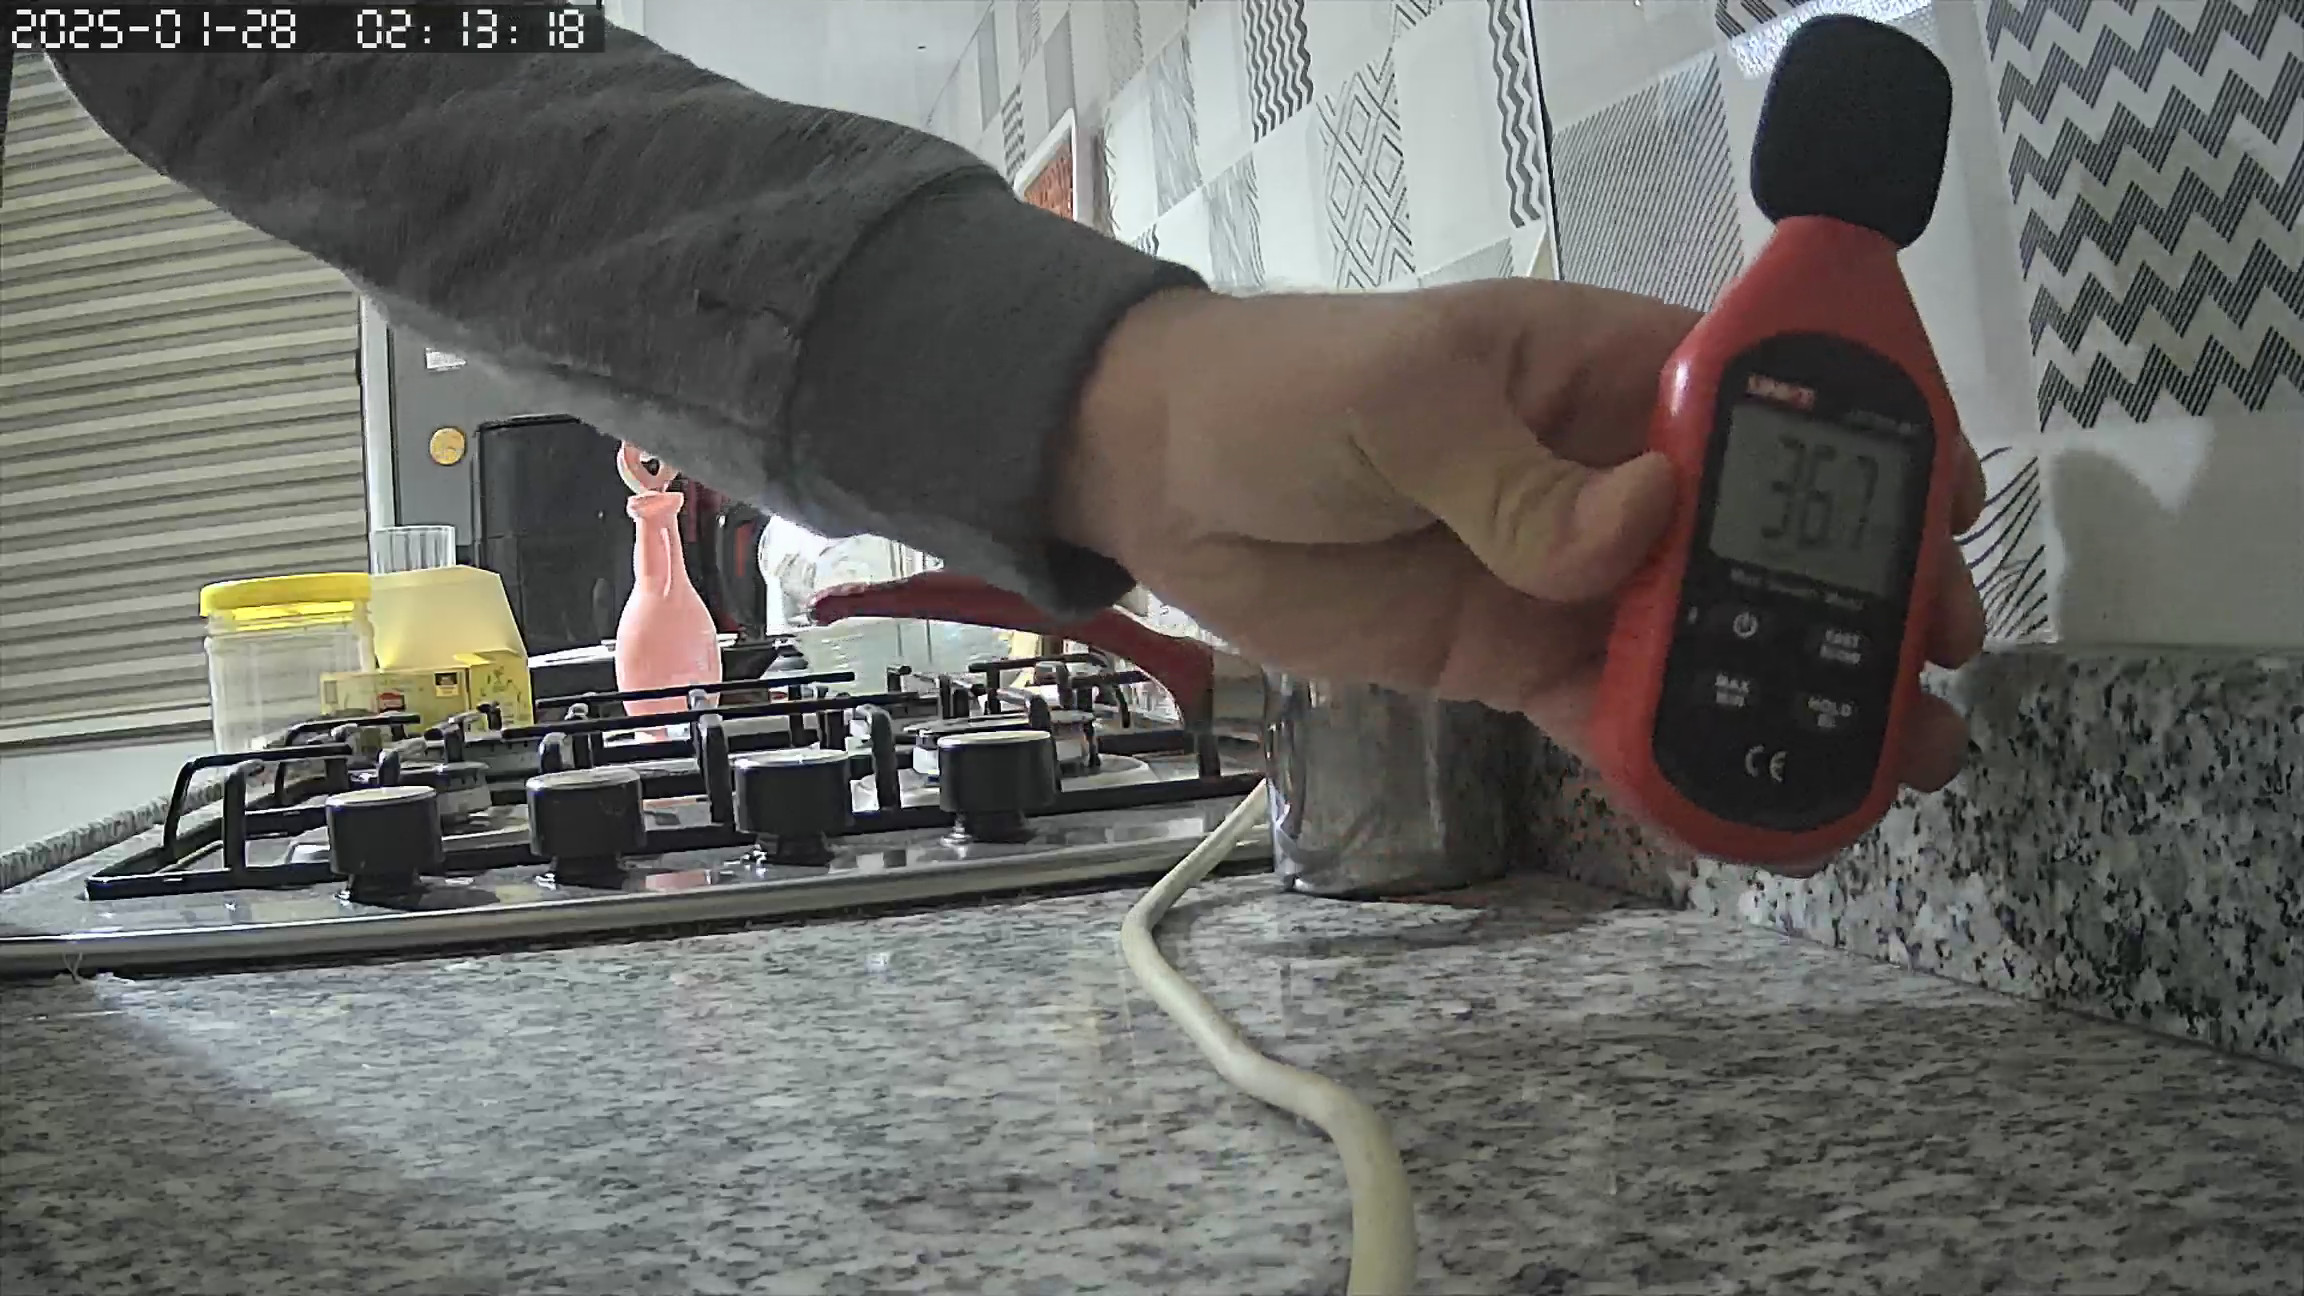screen: (1703, 404, 1915, 601)
